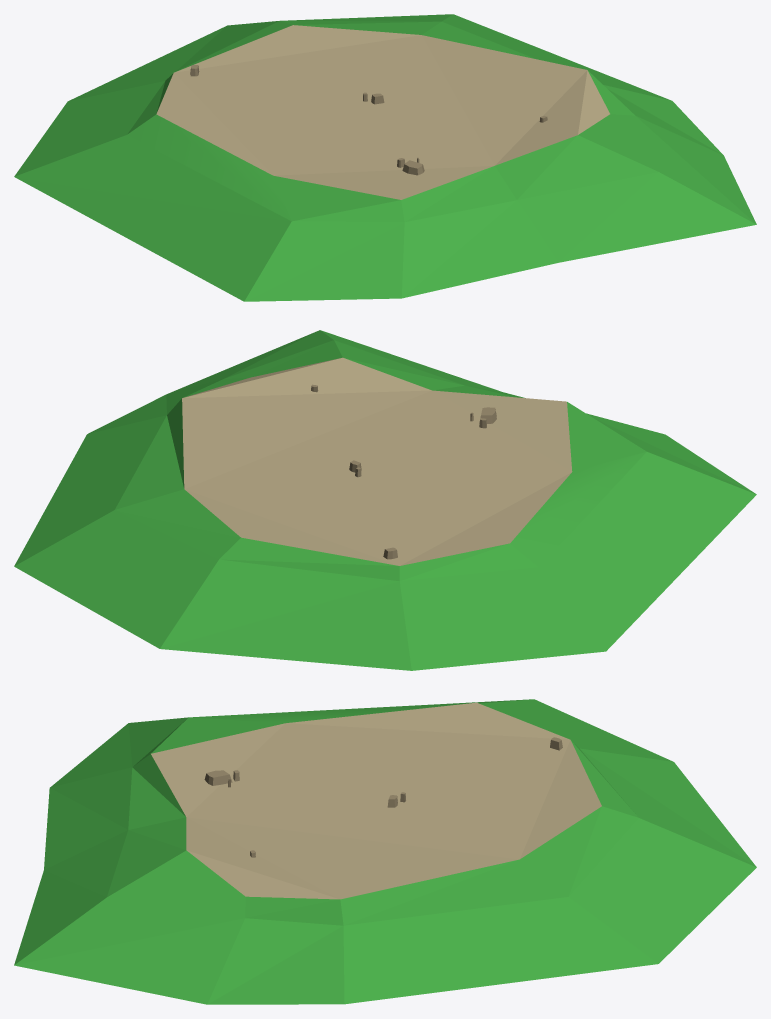
The model's file is Ground_08.FBX.
3 views of the same model, one above another, from view 1: azimuth 30°, elevation 25°; view 2: azimuth 150°, elevation 25°; view 3: azimuth 270°, elevation 25° (orthographic). The views are drawn at different scales.
Parts seen in each view (by area): view 1: Ground_08; view 2: Ground_08; view 3: Ground_08.
Part boxes in pixels (x1,y1,x2,y2): Ground_08: [14, 14, 756, 301]; Ground_08: [14, 330, 756, 670]; Ground_08: [14, 699, 756, 1004].
Size of the model in its own units: 6.68 by 0.7287 by 6.87.
